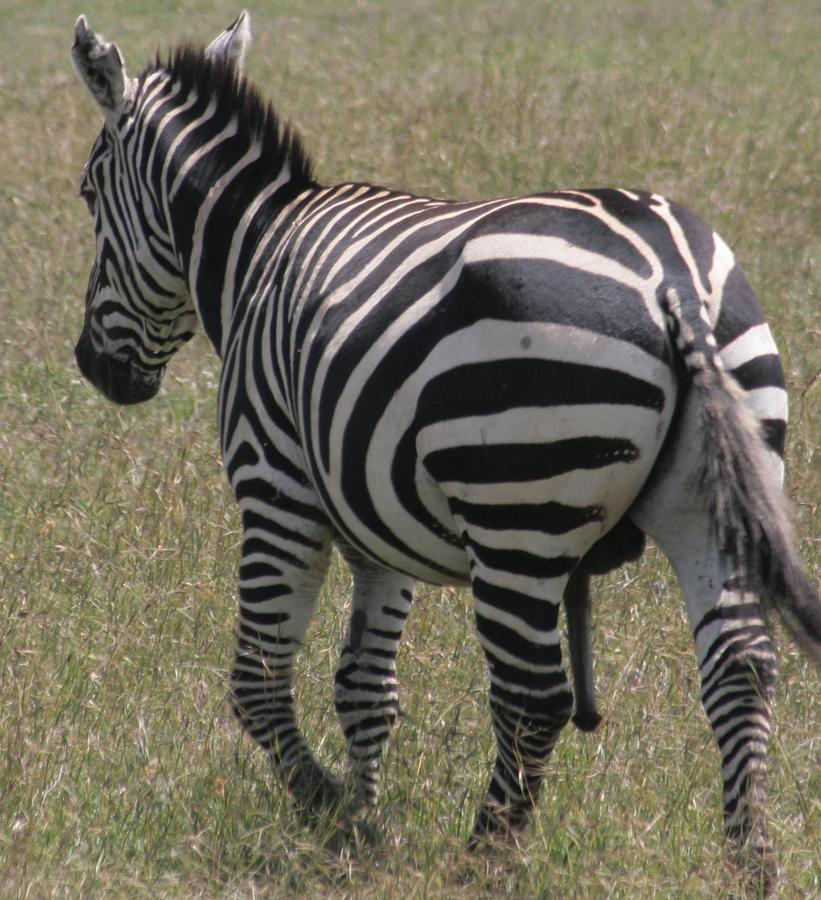zebra_plains: (182, 176, 544, 594)
